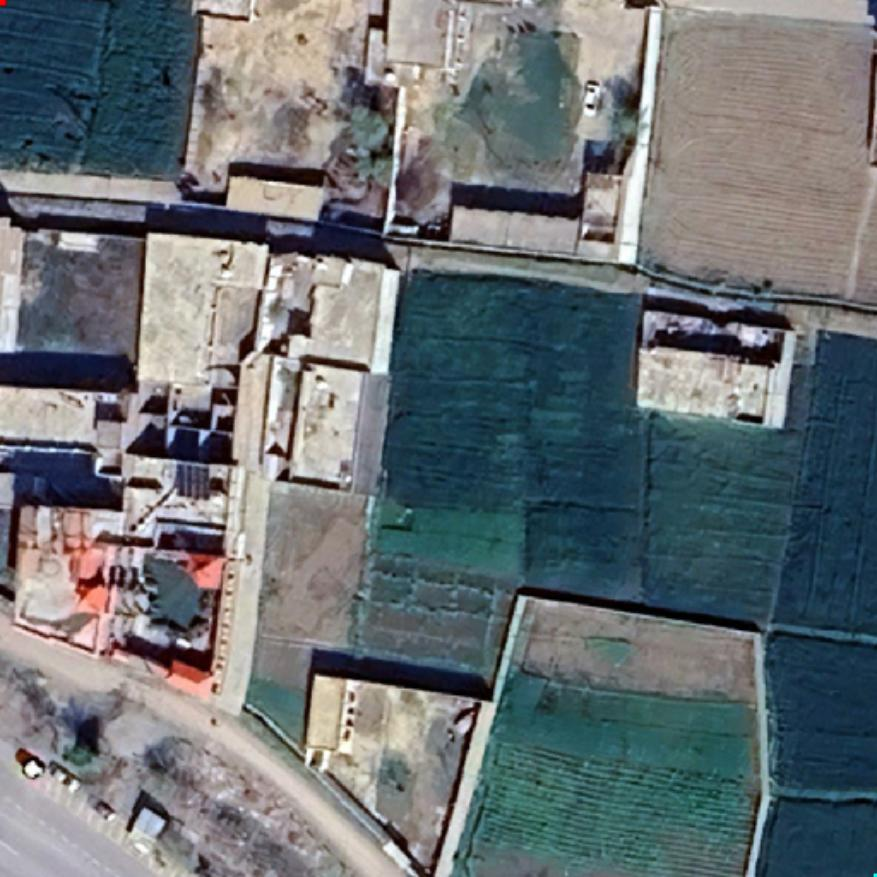Solarpanel: (172, 462, 212, 502)
